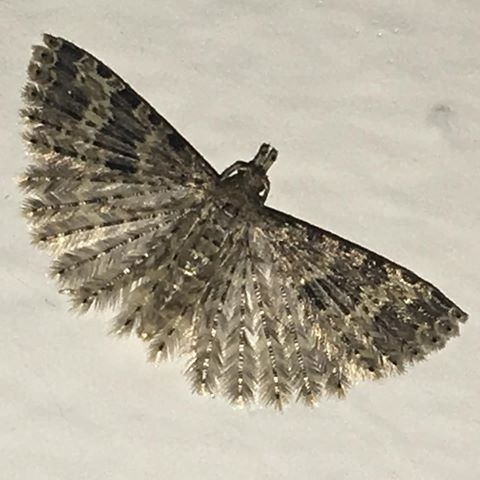Alucitidae: (14, 26, 471, 416)
moth: (16, 28, 473, 418)
